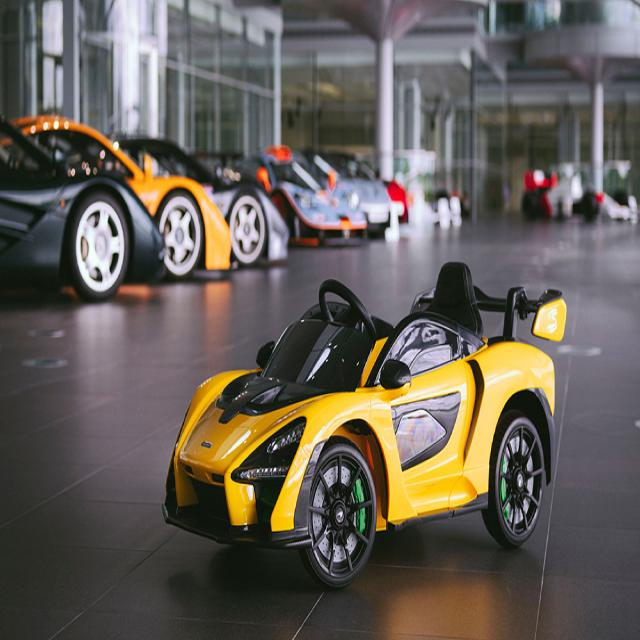Car: (162, 260, 566, 588)
